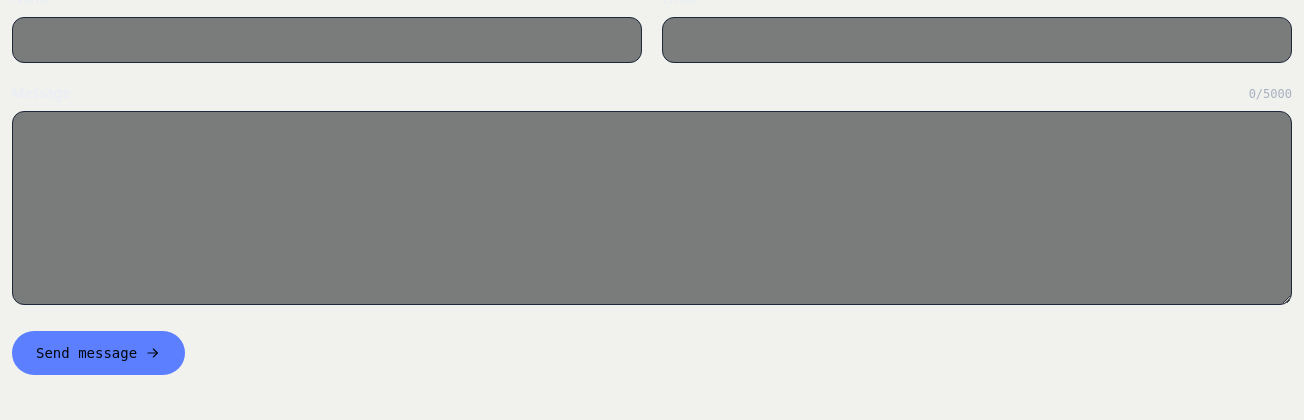
it: ContactForm › maps a 422 validation error onto the matching field
In the field labelled "Name": (327, 40) left=12, top=17, right=642, bottom=63, type "Ada Lovelace"
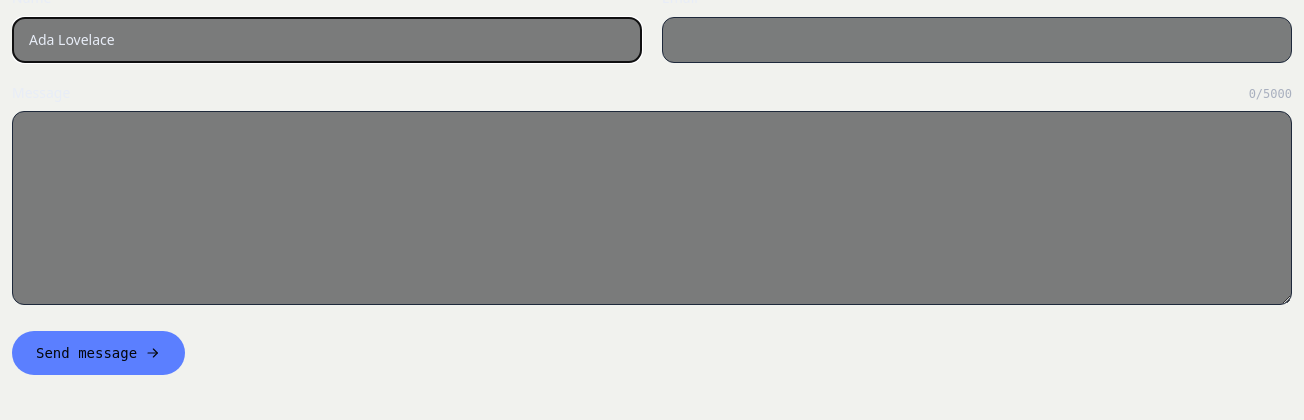
In the field labelled "Email": (977, 40) left=662, top=17, right=1292, bottom=63, type "ada@example.com"
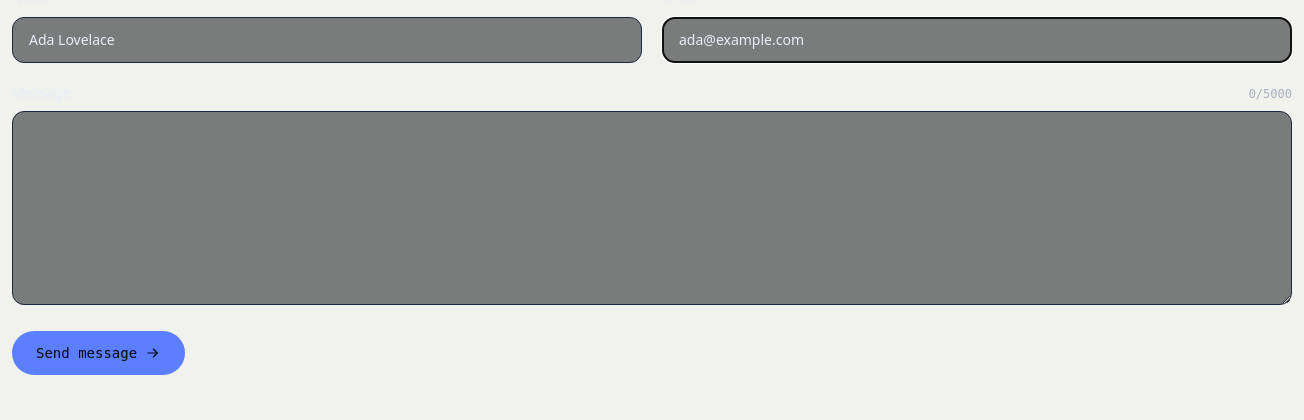
In the text box labelled "Message": (652, 208) left=12, top=111, right=1292, bottom=305, type "Hello there!"
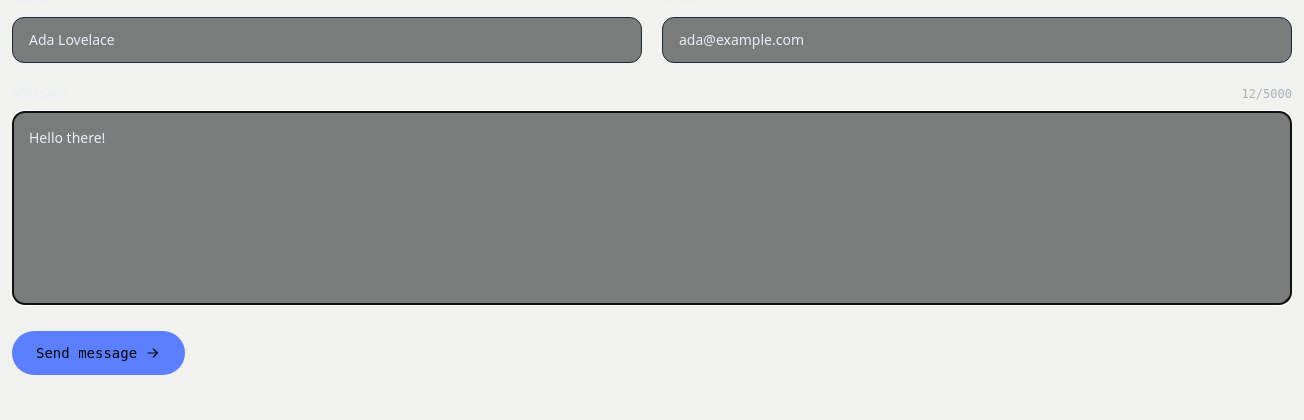
Click the button "Send message": click(99, 353) left=12, top=331, right=185, bottom=375
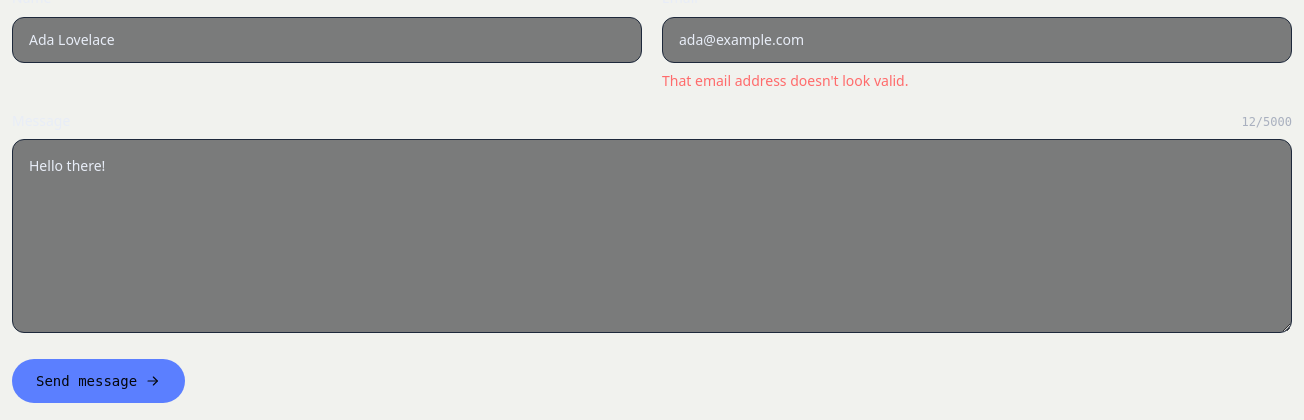
Check: the text "That email address doesn't look valid." is shown, box left=662, top=71, right=908, bottom=90
